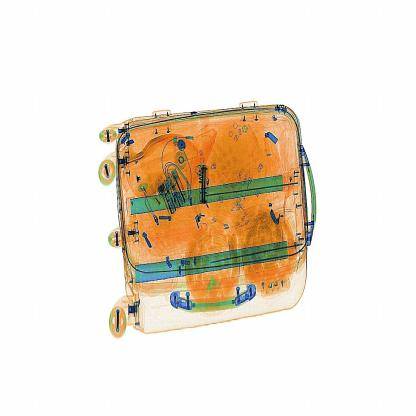scissors: (198, 162, 215, 212)
